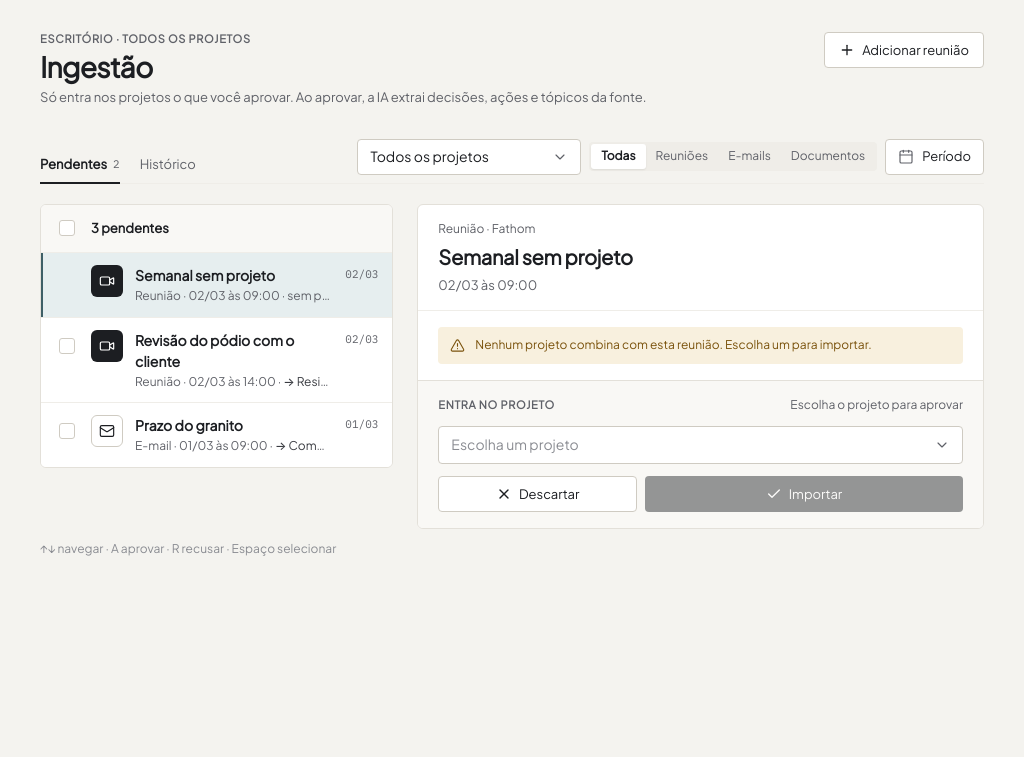
it: Phase 3d · Ingestão › rejects with R
Click the option "Prazo do granito" at (217, 435), box [41, 403, 392, 467]
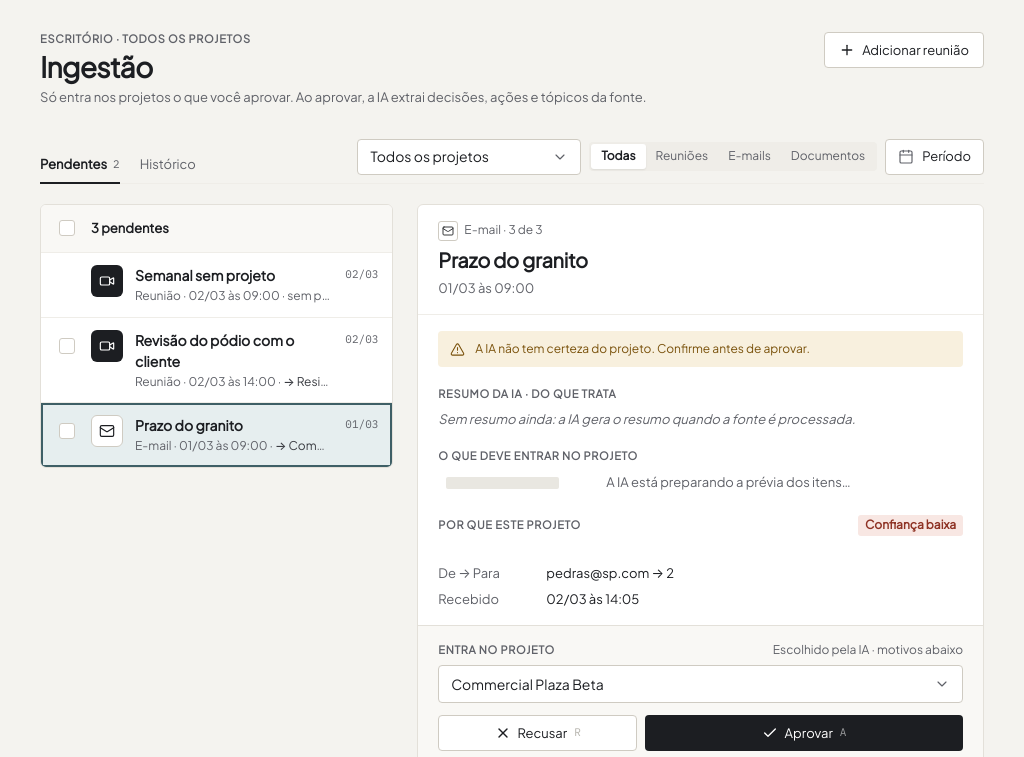
Type keys "r"
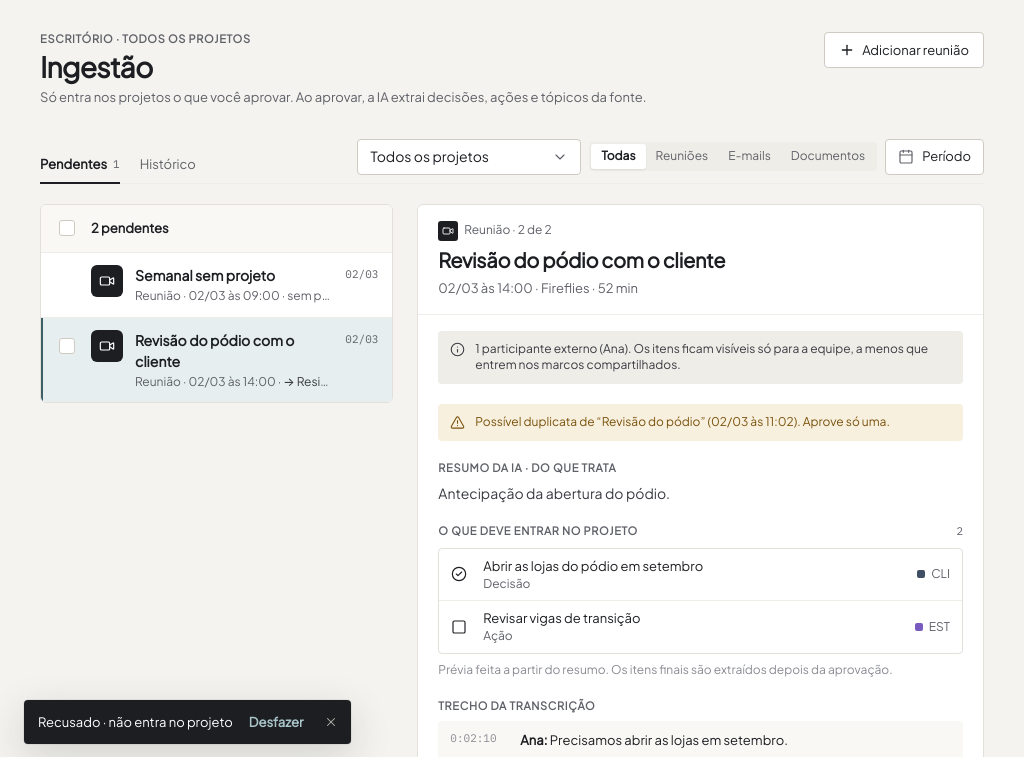
Check: the text "Recusado · não entra no projeto" is shown, box [38, 713, 233, 731]
